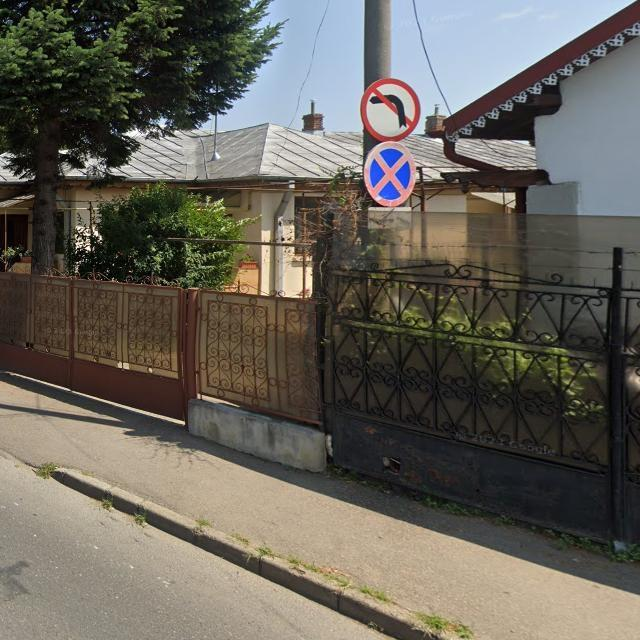forb_waiting: (366, 143, 414, 206)
